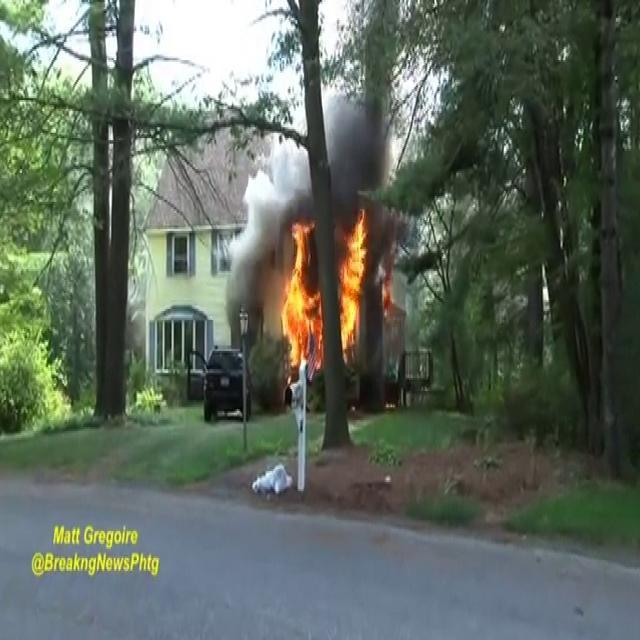Fire: (277, 214, 323, 371), (337, 204, 373, 356)
Smoke: (227, 60, 389, 309)
